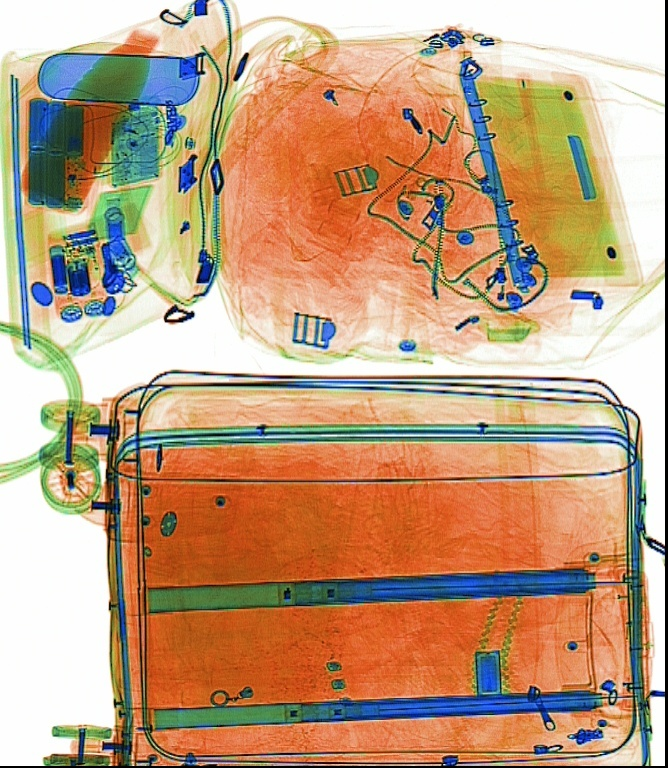powerbank: (21, 91, 87, 210)
